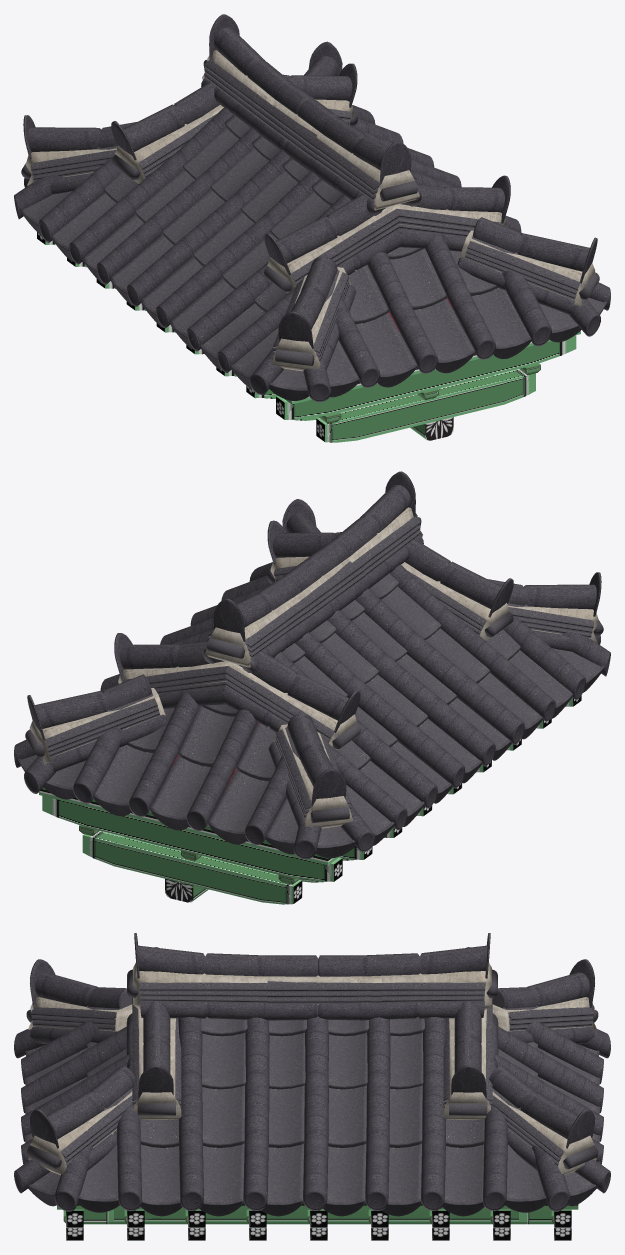
Rendered from SM_R_GateDoor.fbx.
The picture shows the model from 3 angles, top to bottom: view 1: azimuth 30°, elevation 25°; view 2: azimuth 150°, elevation 25°; view 3: azimuth 270°, elevation 25°; orthographic projection. The views are drawn at different scales.
Visible parts, largest first — view 1: SM_R_GateDoor; view 2: SM_R_GateDoor; view 3: SM_R_GateDoor.
Boxes of the visible parts, box(x1,y1,x2,y2) form: SM_R_GateDoor: box(14, 14, 610, 442); SM_R_GateDoor: box(14, 471, 610, 904); SM_R_GateDoor: box(14, 933, 610, 1240).
Size of the model in its own units: 249 by 353 by 183.
Materials: 6 (6 with a texture image).
